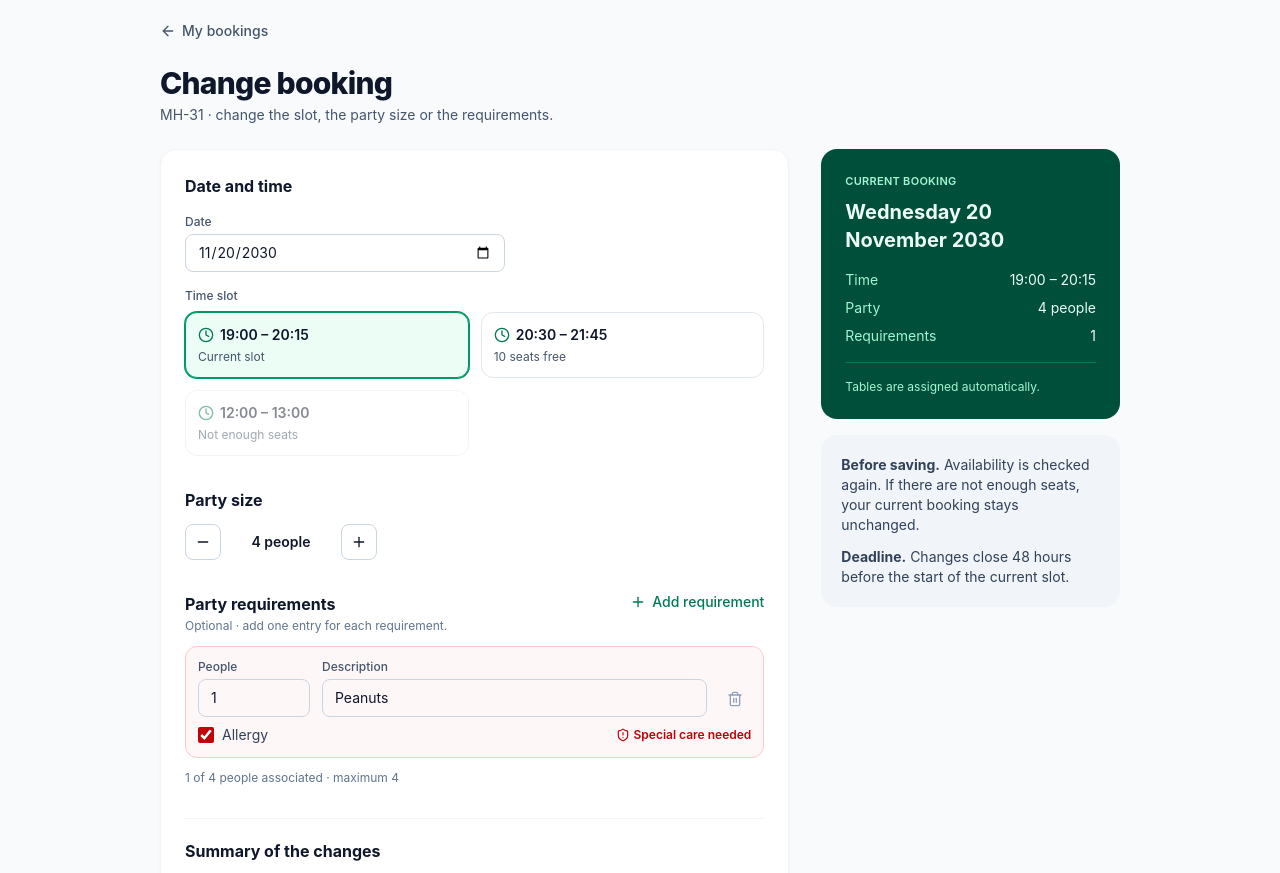
Test: ChangeBooking › saves multiple changed requirement subsets with their individual allergy flags
Expected: the field showing "Peanuts" is shown, [322,679,707,717]
Click the button "Add requirement" at (697, 602), box [630,592,764,612]
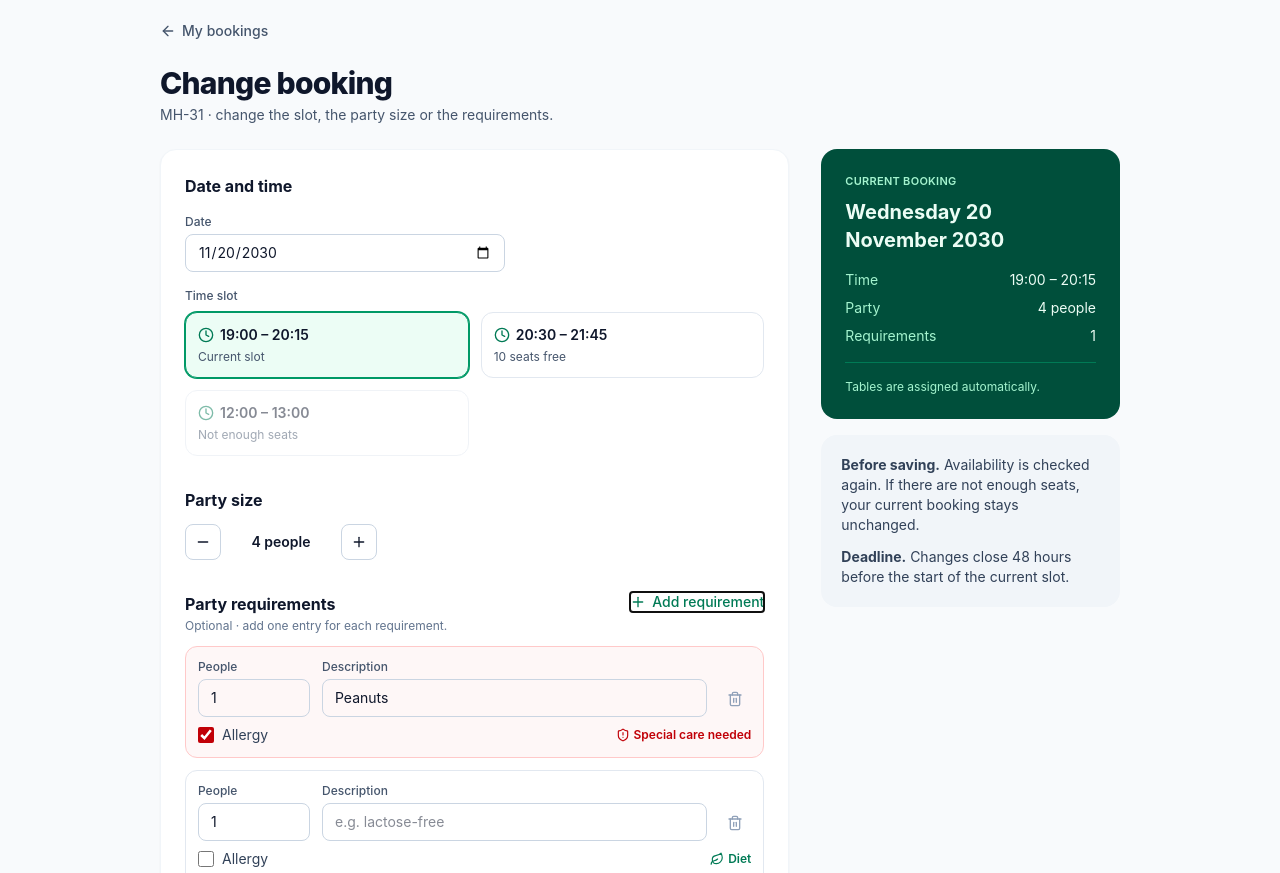
Type "Vegetarian" into the field named "Description for requirement 2" at (515, 822), box [322,803,707,841]
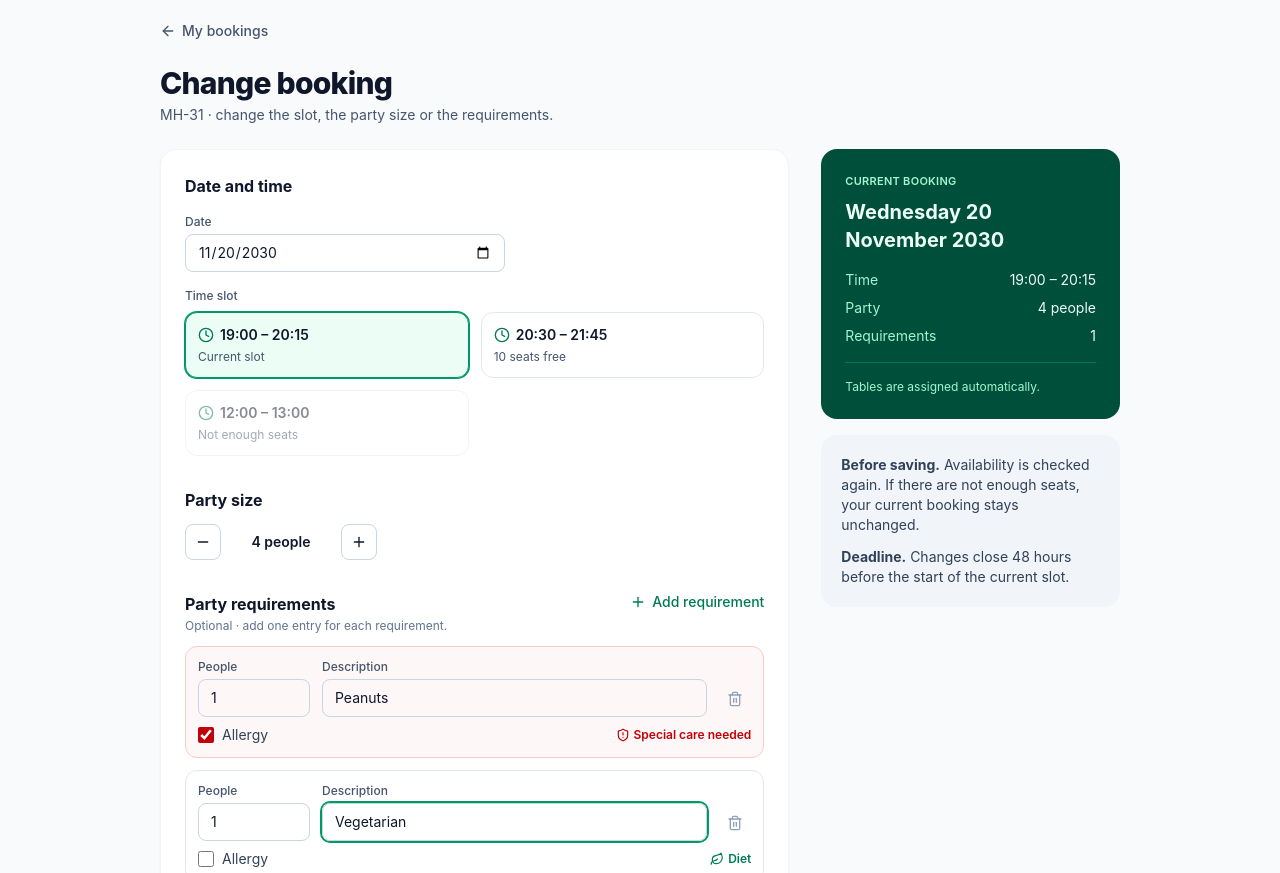
Replace the text in the number field named "People for requirement 2" with "2" at (254, 822), box [198,803,310,841]
(page scrolled)
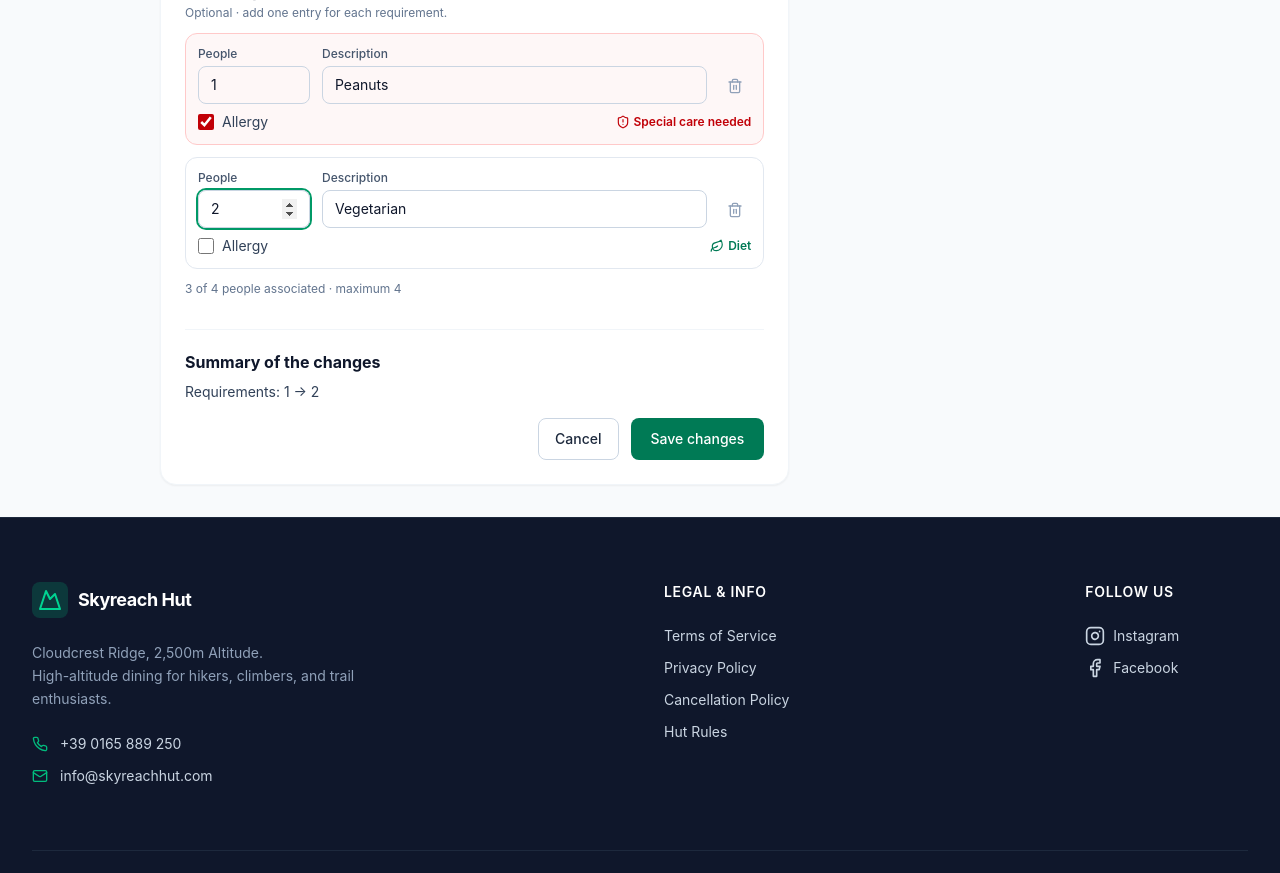
Click the button "Save changes" at (697, 439), box [630,418,764,460]
(page scrolled)
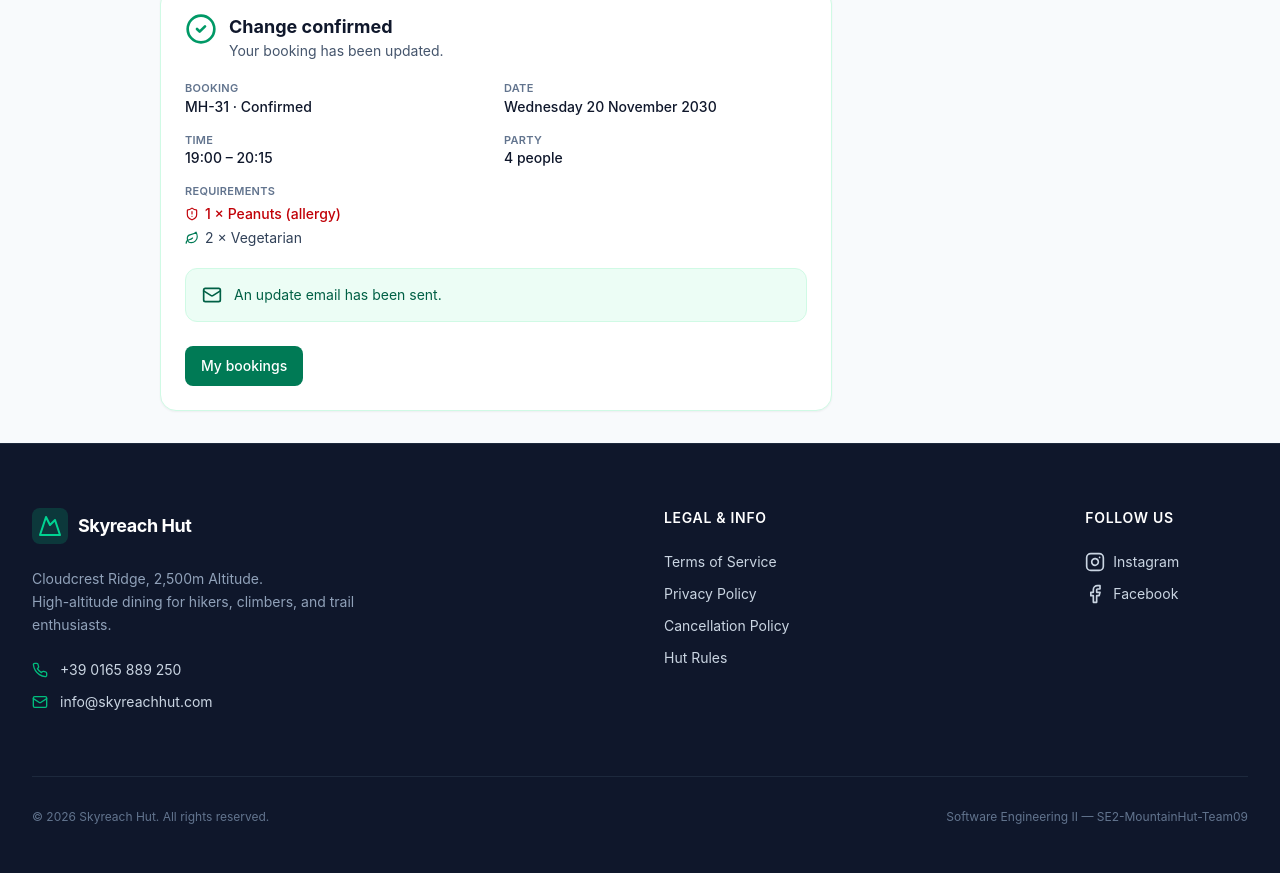
Expected: the heading "Change confirmed" is shown, [229,16,392,37]
Expected: the text "1 × Peanuts (allergy)" is shown, [205,204,341,224]
Expected: the text "2 × Vegetarian" is shown, [205,228,302,248]
